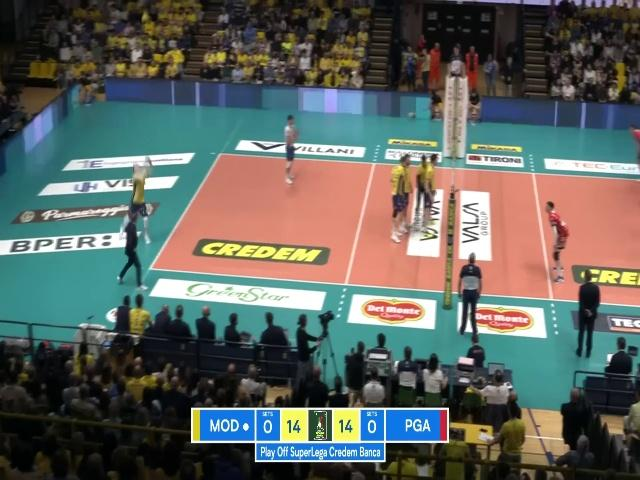volleyball court: (148, 151, 639, 307)
